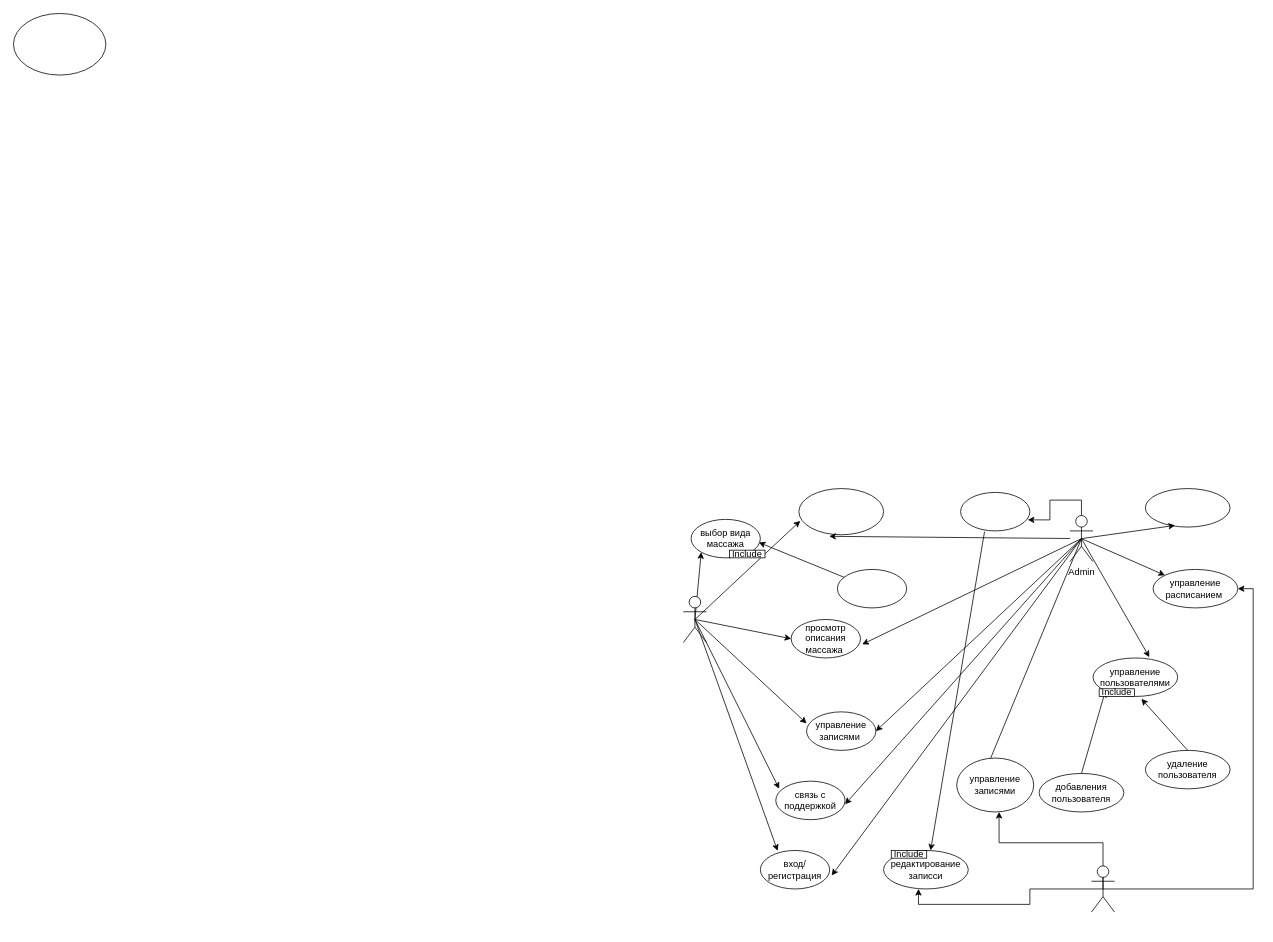
This 1273x942 diagram has some shape labels left out. Here are the shapes that lost their labels. From the top down, the centre of each, then its label:
At (841,511): "Подтверждение записи на массаж".
At (995,511): "добавление описания массажа".
At (1187,507): "определение роли".
At (872,588): "запись на сеанс".
At (694,619): "Users".
At (1103,888): "Teacher".
